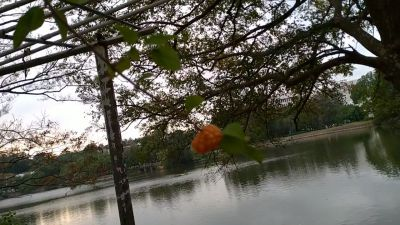eggs: (191, 122, 224, 154)
